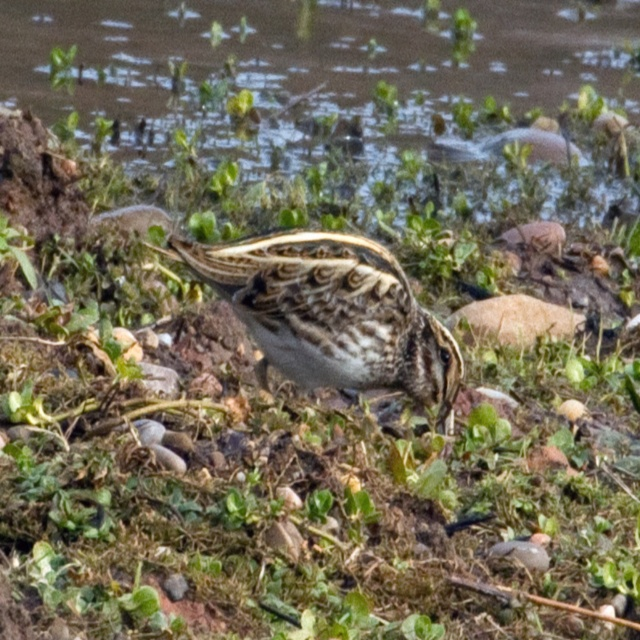Sparrow: (144, 228, 466, 433)
